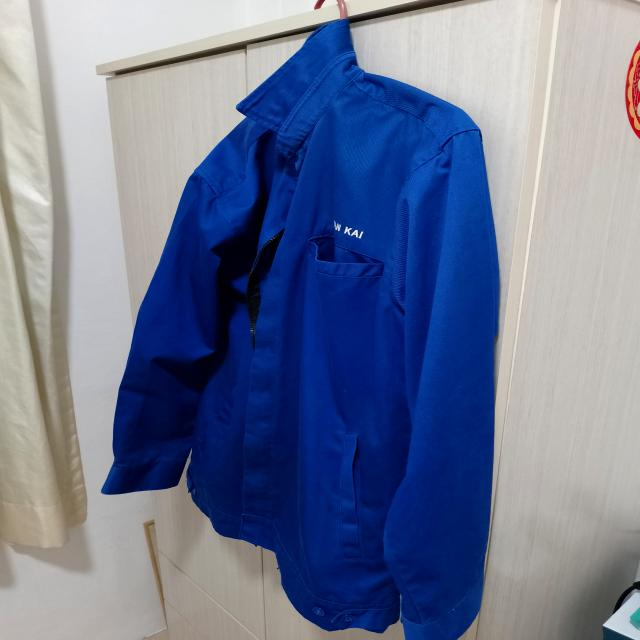person_without_labcoat: (103, 20, 500, 640)
